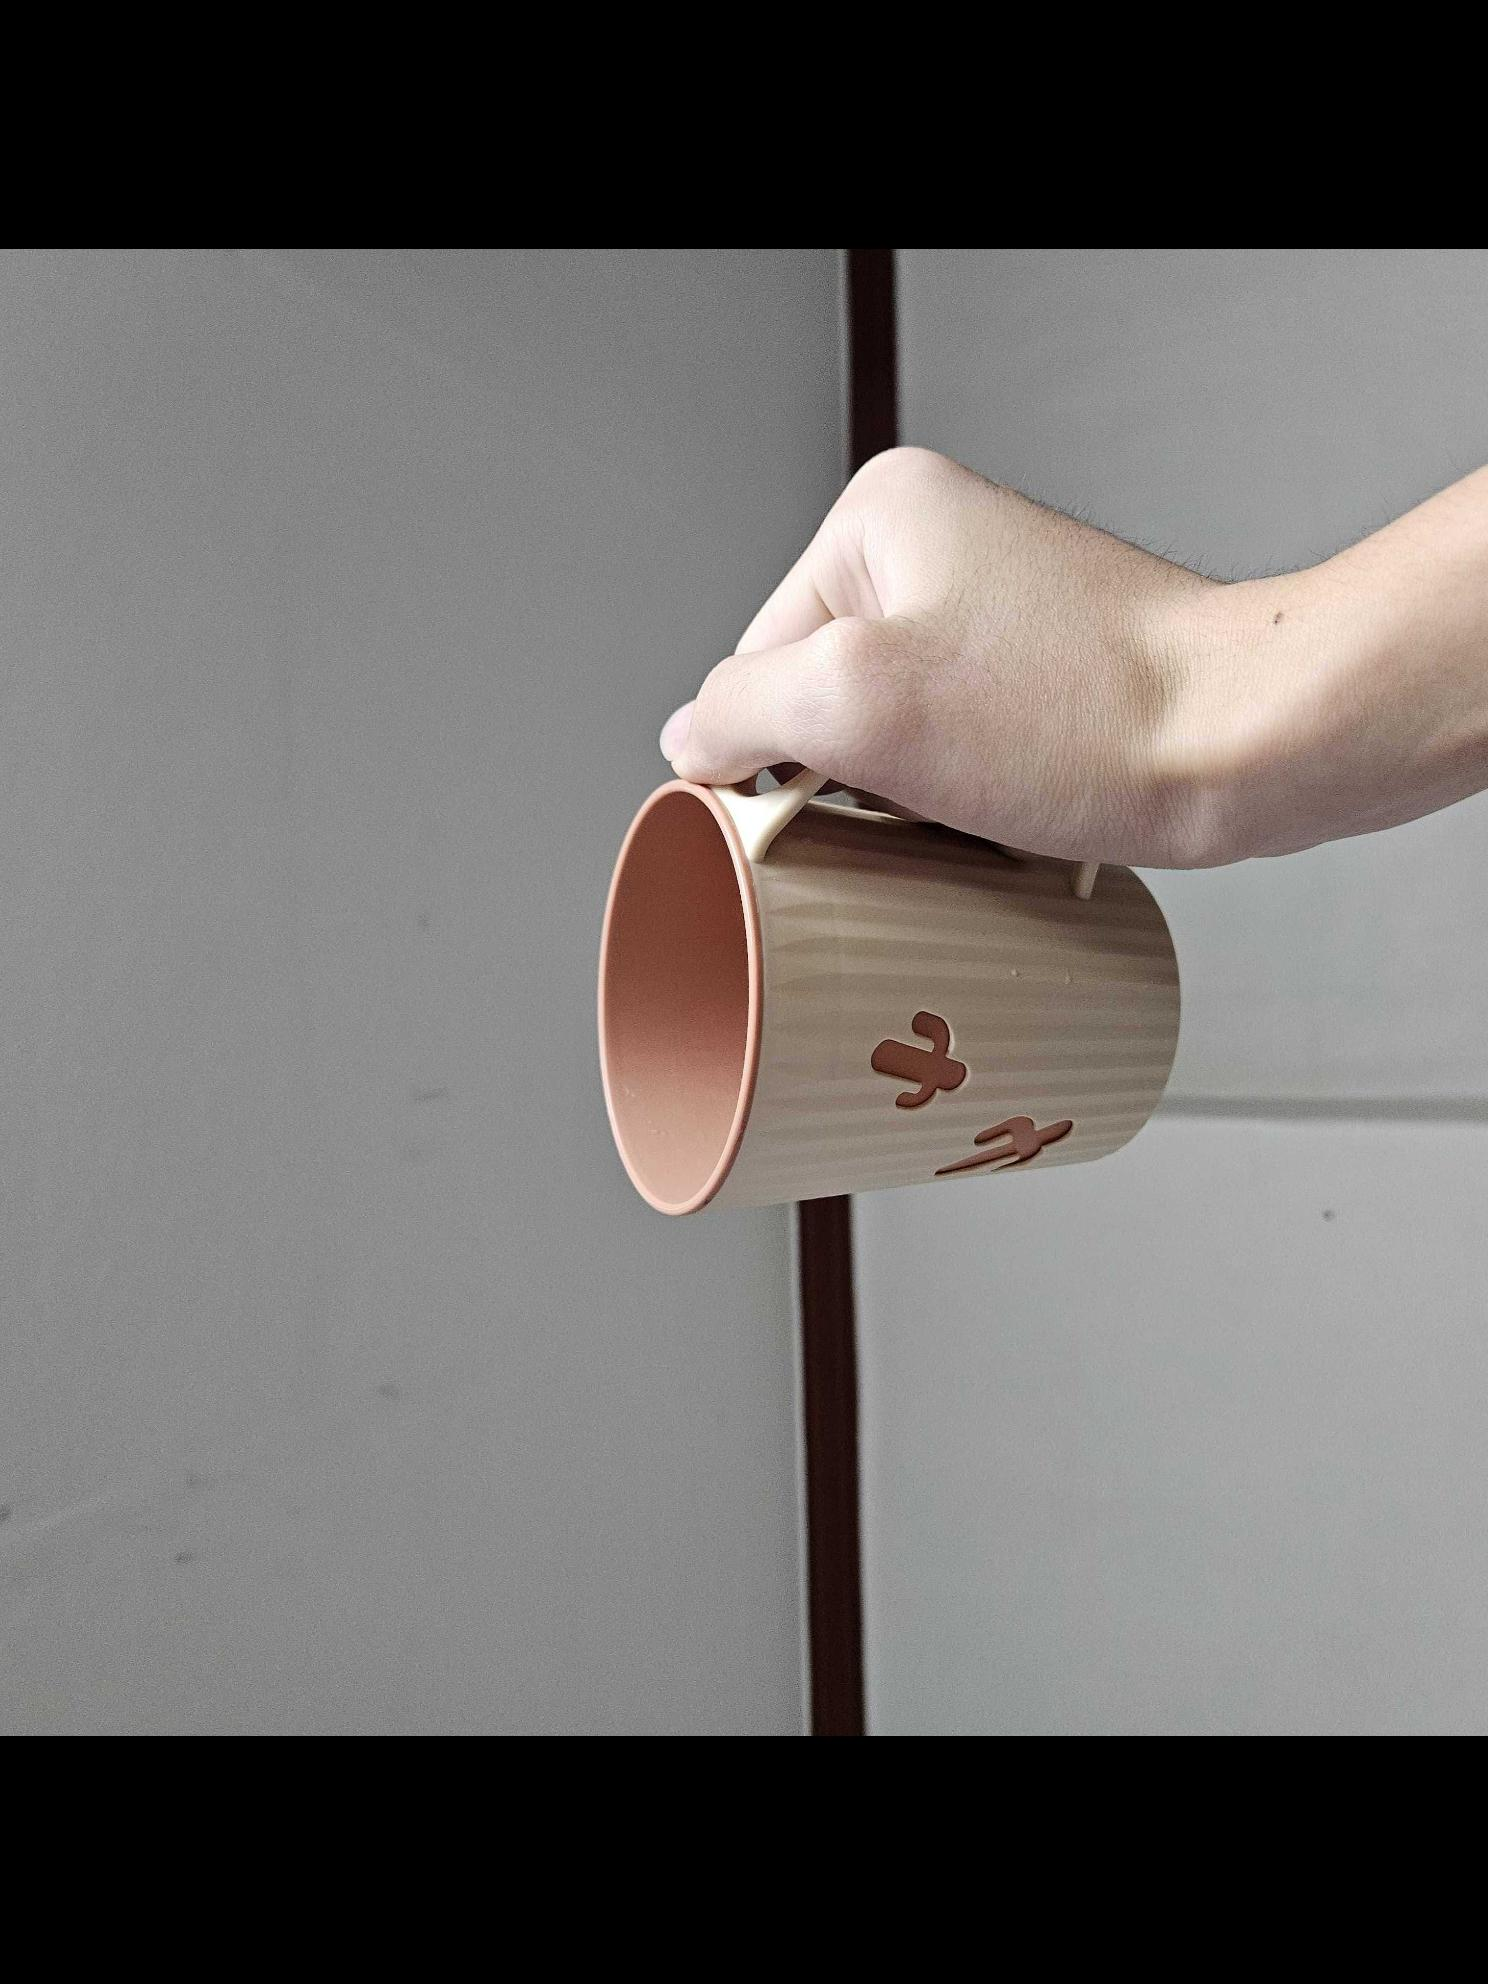cup: (599, 425, 1354, 1247)
